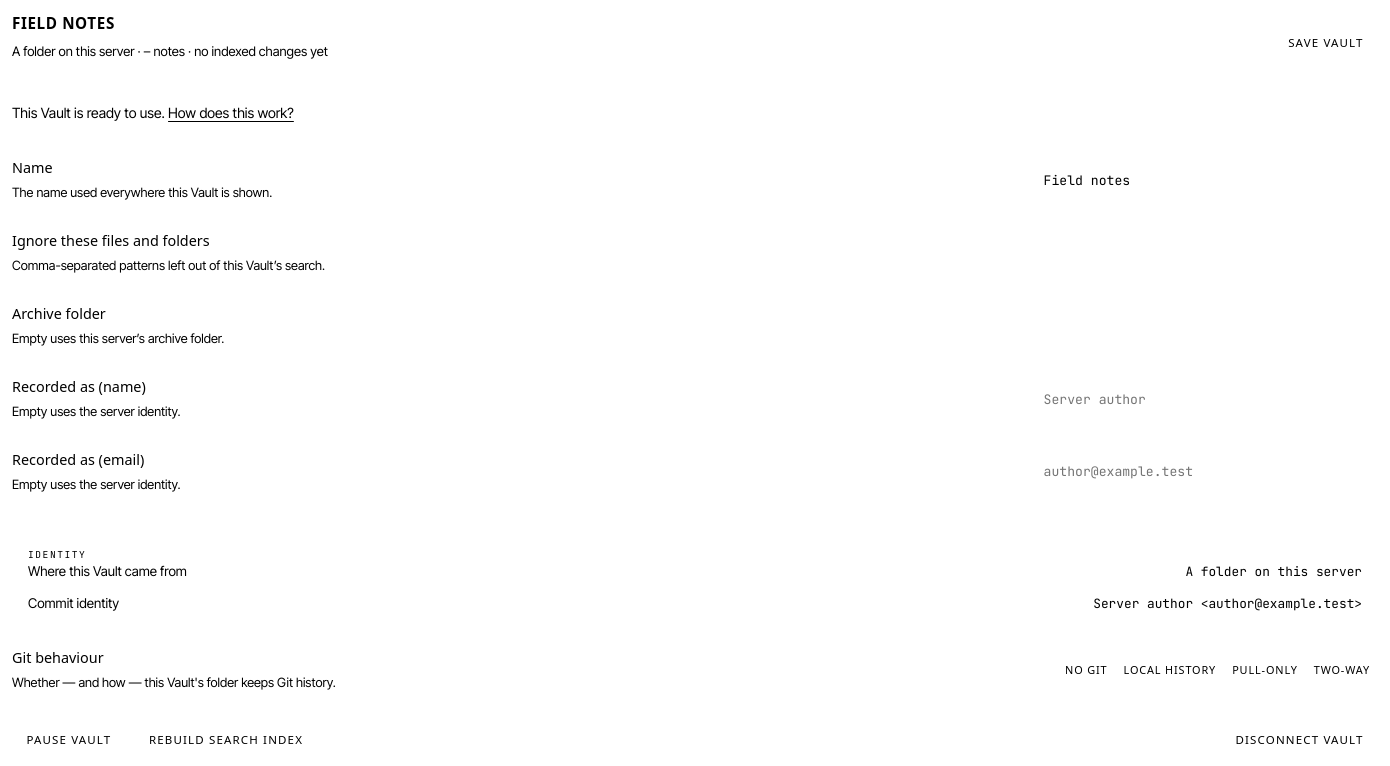
Test case: VaultSettingsDetail — a registry that moved elsewhere (#338) › says a Save conflict in words, as an alert, and lets the next Save through
The width and height of the screenshot is (1390, 766).
Expected: the heading "Field notes" is shown, [12, 13, 115, 33]
Step 1. Replace the text in the field named "Vault name" with "Renamed" → (1206, 180), box [1034, 165, 1378, 196]
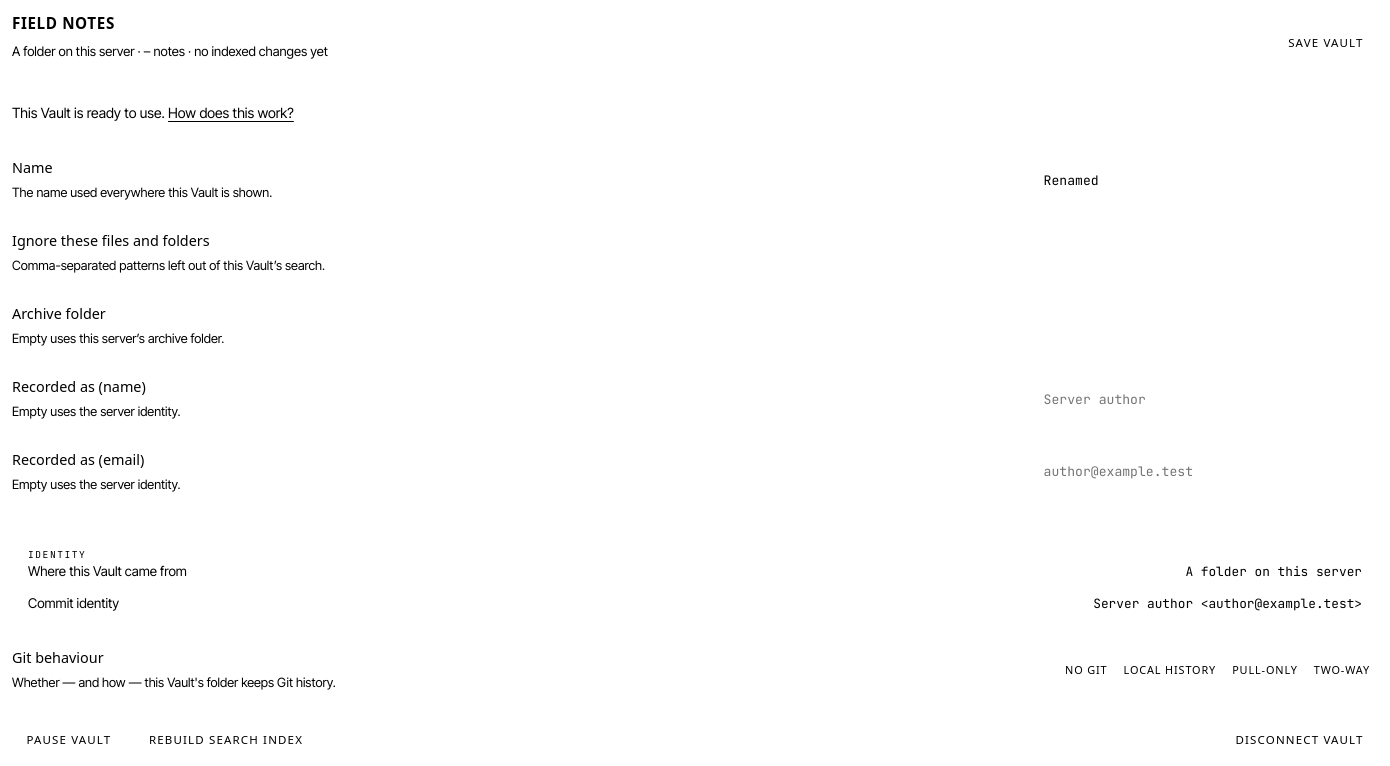
Step 2. Click the button "Save Vault" → (1326, 43), box [1274, 28, 1378, 57]
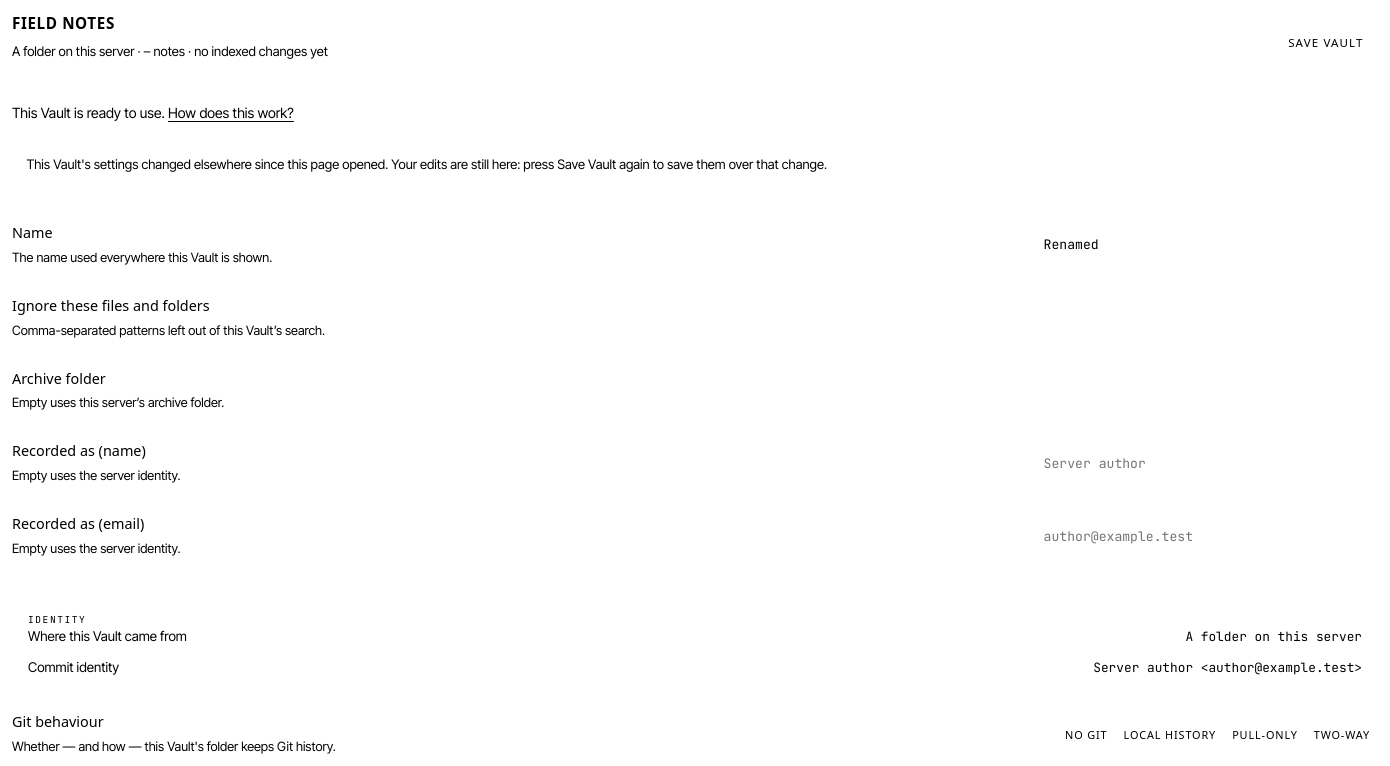
Expected: the message does not show "registry revision", [26, 156, 827, 172]
Expected: the message shows "changed elsewhere", [26, 156, 827, 172]
Step 3. Click the button "Save Vault" → (1326, 43), box [1274, 28, 1378, 57]
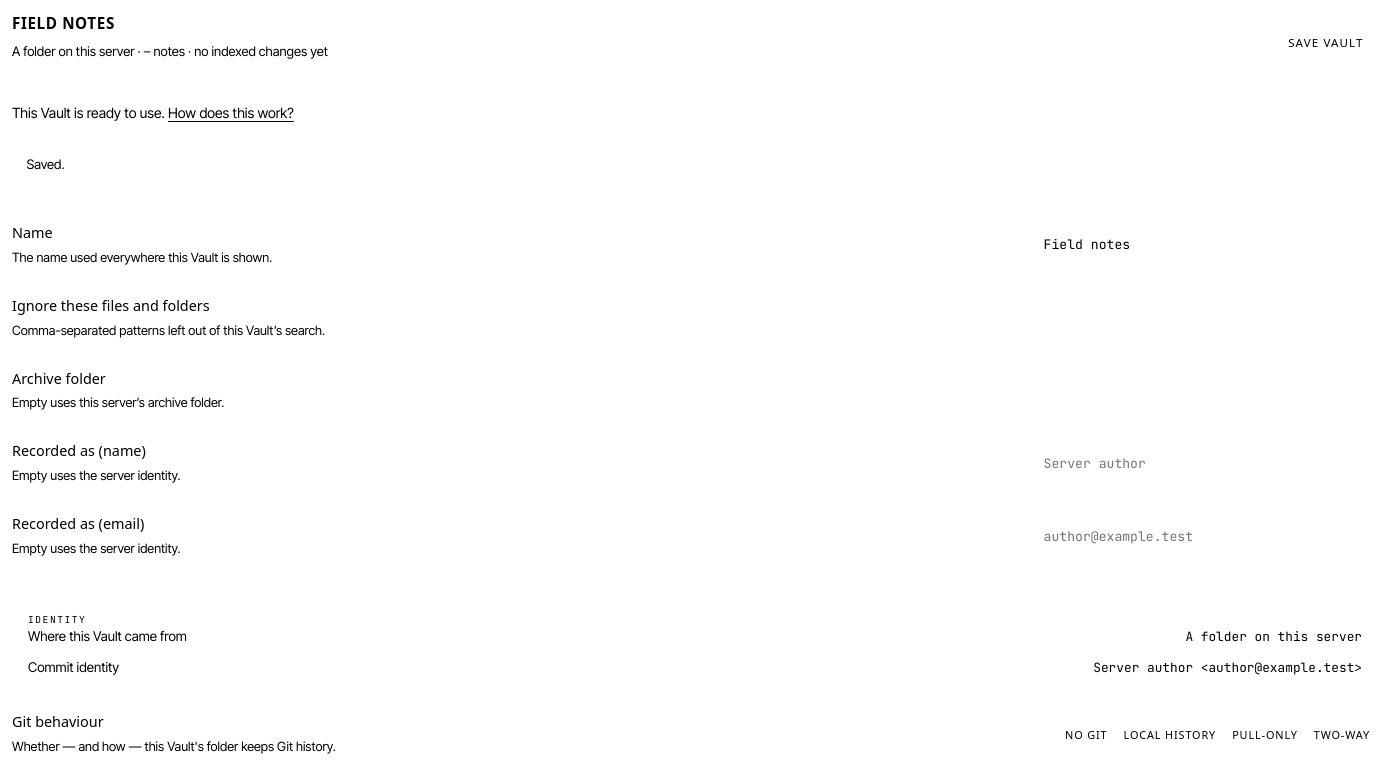
Expected: the text "Saved." is shown, [26, 156, 65, 172]
